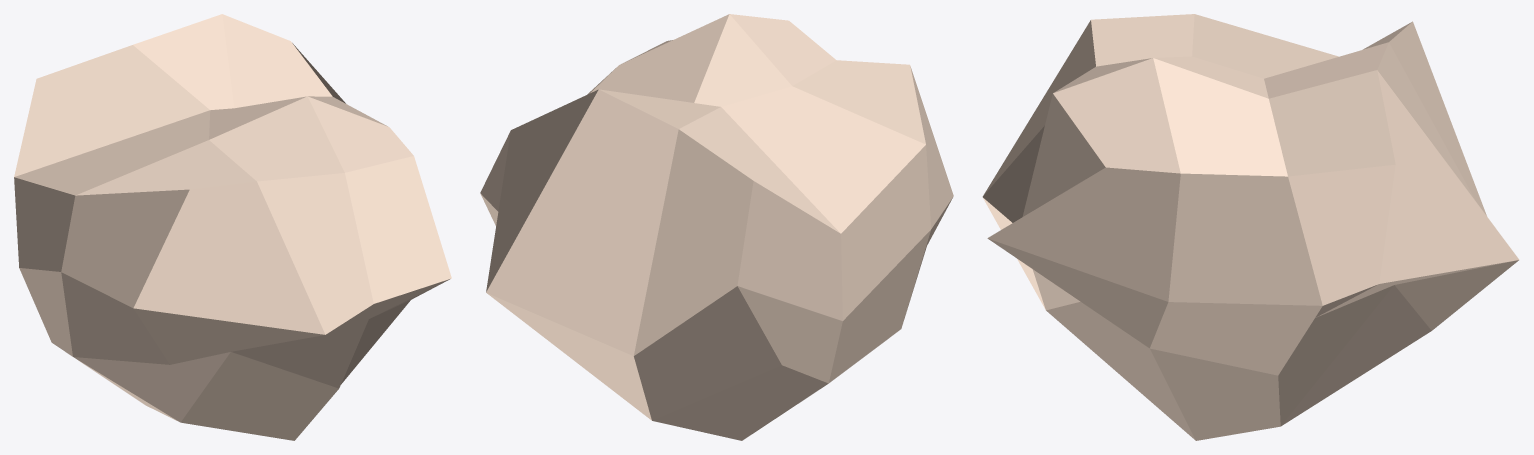
File: lump-paper1.fbx
3 views of the same model, side by side, from view 1: azimuth 30°, elevation 25°; view 2: azimuth 150°, elevation 25°; view 3: azimuth 270°, elevation 25° (orthographic). The views are drawn at different scales.
Visible parts, largest first — view 1: Cube.004; view 2: Cube.004; view 3: Cube.004.
Part boxes in pixels (x1,y1,x2,y2): Cube.004: (14, 14, 451, 440); Cube.004: (480, 14, 953, 440); Cube.004: (982, 14, 1519, 440).
Size of the model in its own units: 18.8 by 16.83 by 21.6.
